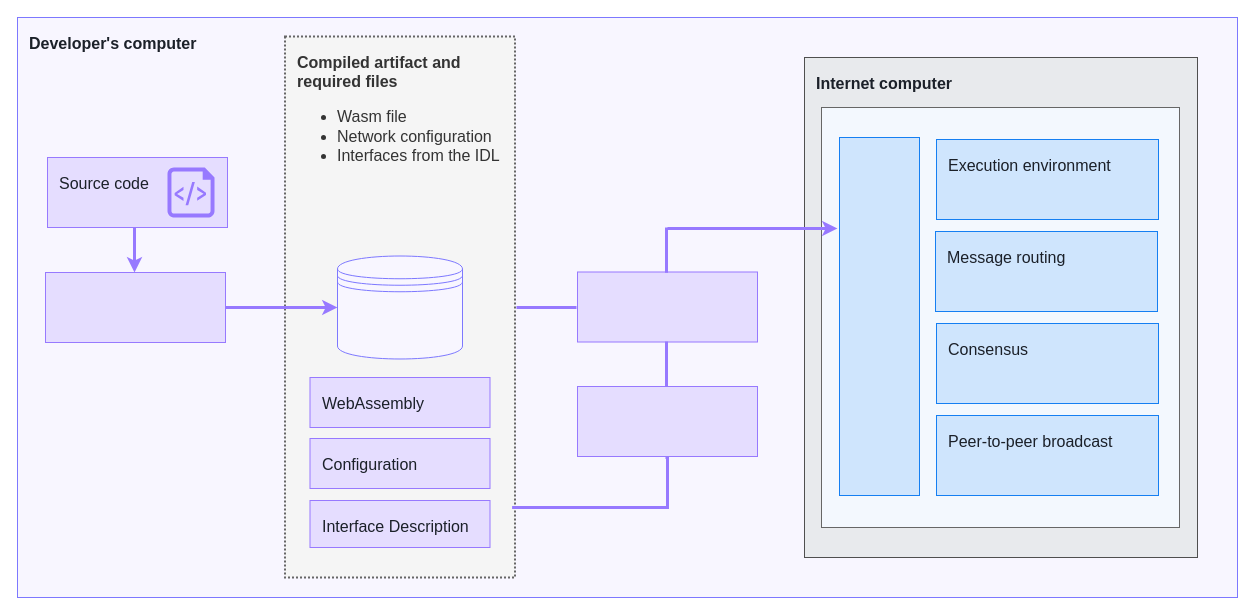
This 1255x615 diagram has some shape labels left out. The centre of each missing label's shape, as x and y in pixels:
"Deploy canister locally ( dfx install )" belongs at point 667,306.
"HTTP handler" belongs at point 879,316.
"Interpreter / compiler ( dfx build )" belongs at point 135,307.
"Test and debug locally" belongs at point 667,421.
